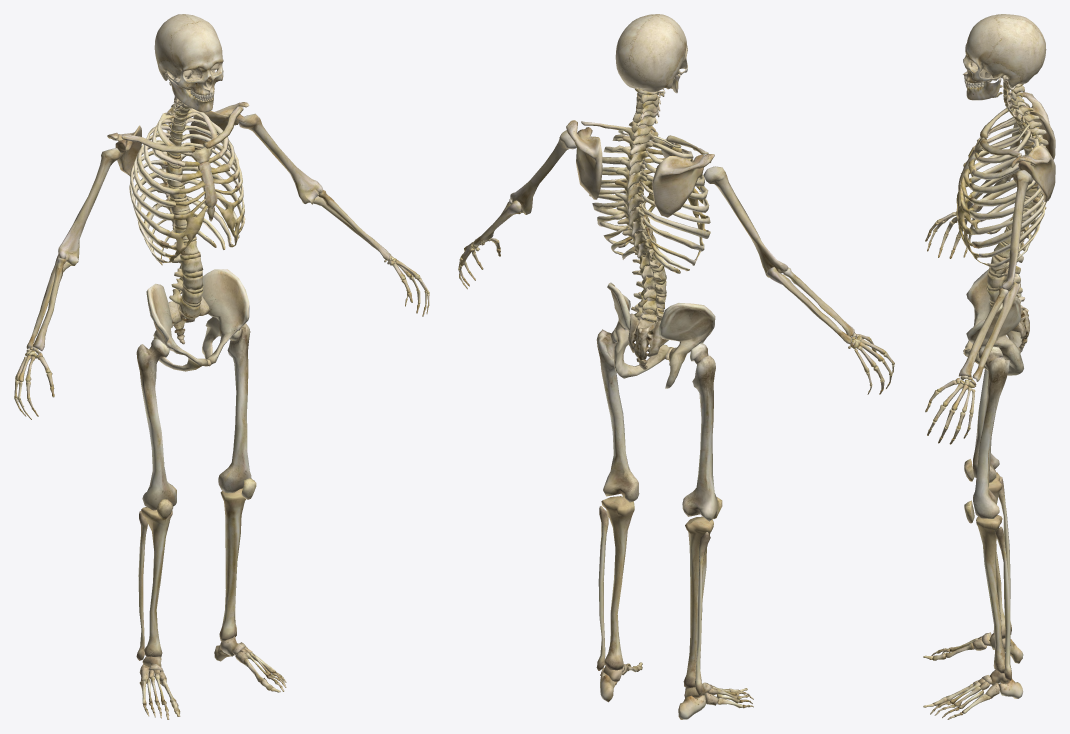
File: skeleton.glb
3 renders of one model, left to right at view 1: azimuth 30°, elevation 25°; view 2: azimuth 150°, elevation 25°; view 3: azimuth 270°, elevation 25°, orthographic. The views are drawn at different scales.
Visible parts, largest first — view 1: HipsLegs, ArmsHands, Ribs, Cranium, Spine, RibCartilage, Discs, Sternum; view 2: HipsLegs, ArmsHands, Spine, Ribs, Cranium, Sacrum, RibCartilage; view 3: HipsLegs, ArmsHands, Ribs, Cranium, Spine, RibCartilage, Mandible, Discs, Sacrum, Sternum.
Part boxes in pixels (<box>): HipsLegs: <box>136,269,286,719</box>; ArmsHands: <box>14,102,429,419</box>; Ribs: <box>129,108,245,265</box>; Cranium: <box>154,14,223,95</box>; Spine: <box>156,77,203,317</box>; RibCartilage: <box>163,146,242,262</box>; Discs: <box>166,106,203,318</box>; Sternum: <box>191,147,217,221</box>; HipsLegs: <box>596,282,753,719</box>; ArmsHands: <box>458,120,894,394</box>; Spine: <box>614,88,666,322</box>; Ribs: <box>589,128,710,273</box>; Cranium: <box>615,14,687,92</box>; Sacrum: <box>628,312,668,369</box>; RibCartilage: <box>625,138,706,259</box>; HipsLegs: <box>923,269,1023,719</box>; ArmsHands: <box>925,92,1055,444</box>; Ribs: <box>969,111,1046,270</box>; Cranium: <box>963,14,1046,86</box>; Spine: <box>986,81,1048,307</box>; RibCartilage: <box>956,132,990,265</box>; Mandible: <box>966,75,1001,100</box>; Discs: <box>987,95,1037,305</box>; Sacrum: <box>1011,305,1029,350</box>; Sternum: <box>958,137,984,191</box>.
Bounding box in the file's own units: 1200 × 1850 × 332.
Materials: 14 (14 with a texture image).
